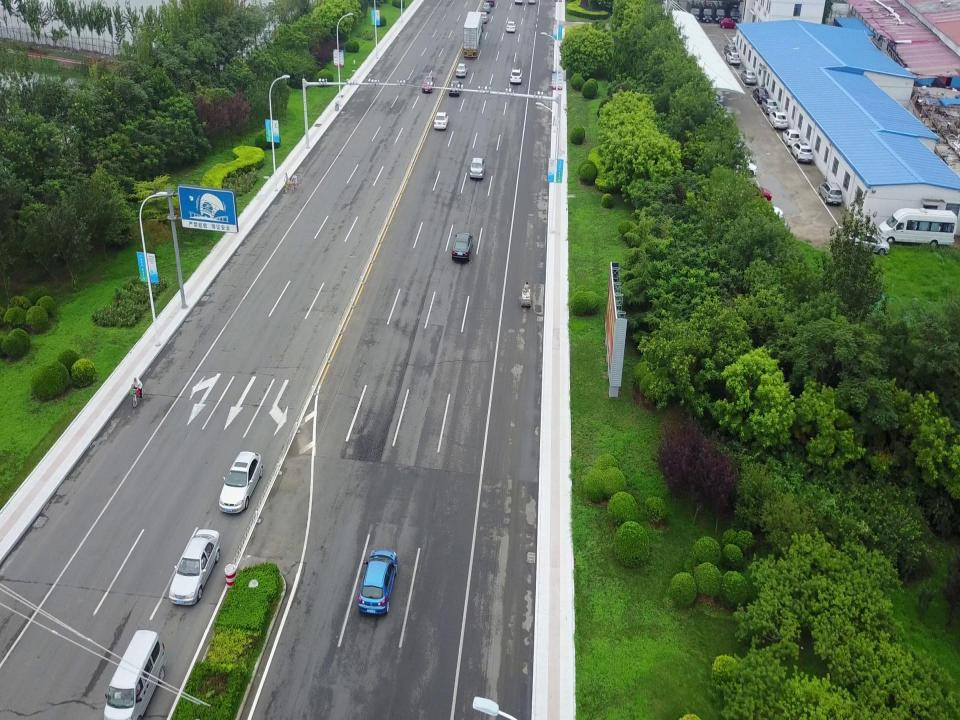car: (168, 527, 222, 605), (219, 449, 262, 515), (360, 549, 396, 614), (844, 230, 892, 254), (452, 230, 474, 265), (820, 181, 846, 203), (790, 145, 818, 162), (468, 158, 486, 178), (752, 86, 770, 105), (740, 66, 756, 85), (724, 42, 738, 63), (434, 111, 450, 129), (784, 128, 802, 144), (420, 77, 436, 94), (766, 95, 780, 114), (768, 113, 786, 127), (504, 18, 516, 33), (512, 66, 522, 82), (450, 82, 460, 95), (456, 64, 466, 76)
truck: (464, 10, 483, 55)
van: (104, 630, 164, 720), (876, 207, 958, 242)
